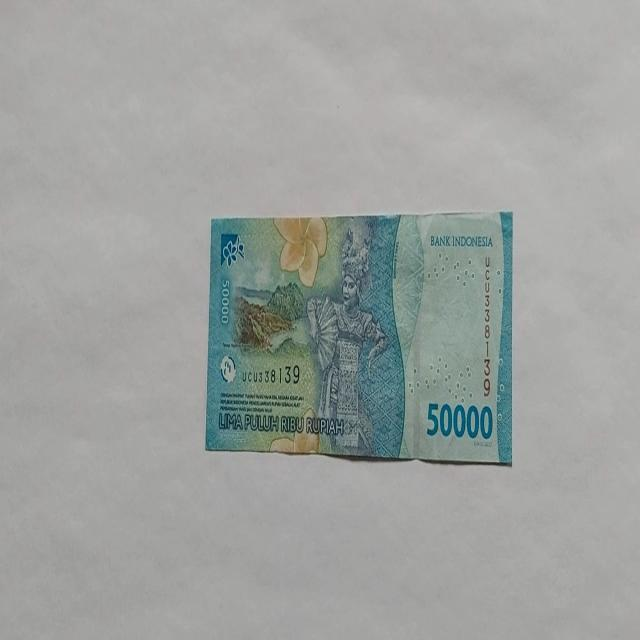lima puluh ribu rupiah: (204, 211, 514, 465)
